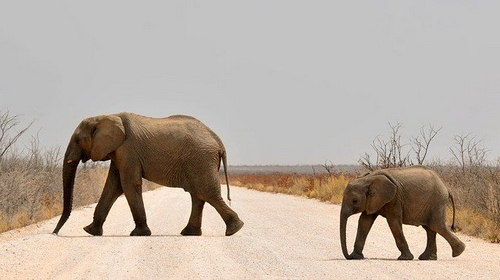elephant: (53, 112, 245, 239), (339, 162, 466, 264)
